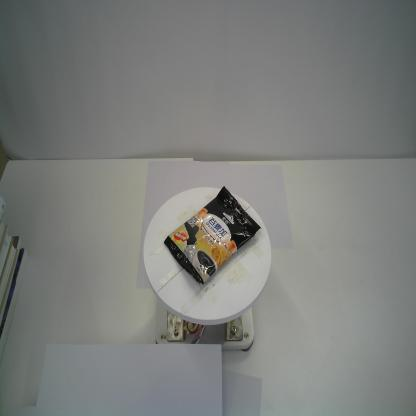Instant Drink: (164, 186, 262, 286)
